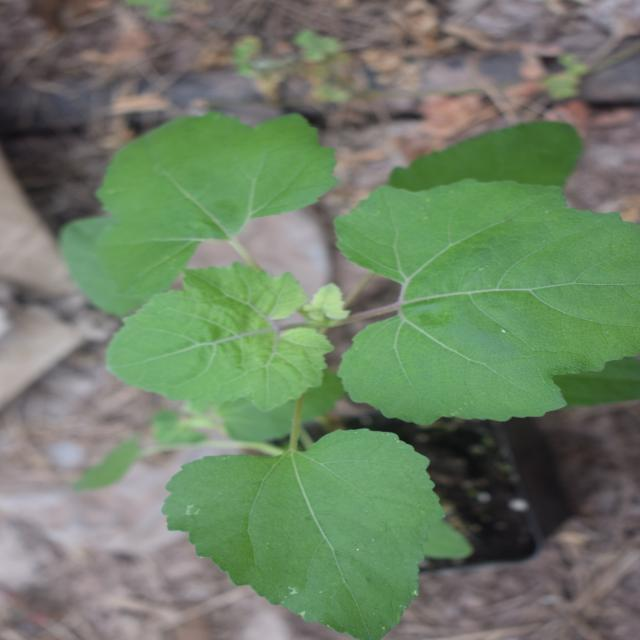cocklebur: (14, 91, 544, 588)
